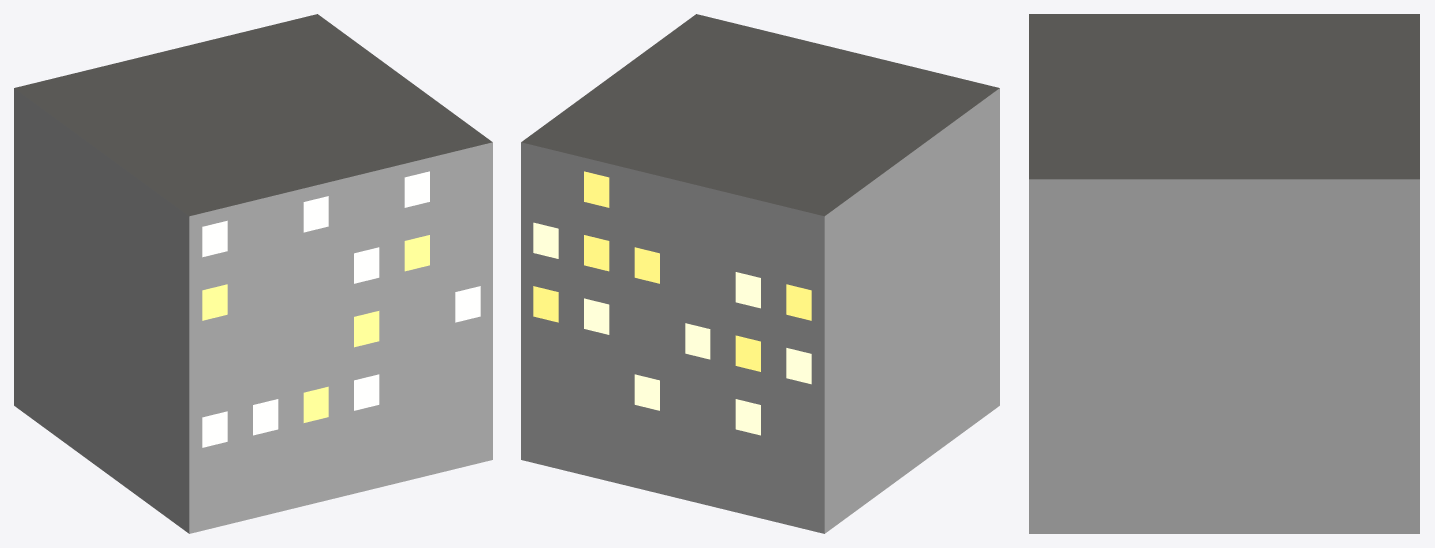
File: city-block-lit-5.glb
3 renders of one model, left to right at view 1: azimuth 30°, elevation 25°; view 2: azimuth 150°, elevation 25°; view 3: azimuth 270°, elevation 25°, orthographic. The views are drawn at different scales.
Parts seen in each view (by area): view 1: city_block, window warm, window amber; view 2: city_block, window warm, window amber; view 3: city_block.
Part boxes in pixels (x1=…): city_block: x1=14, y1=14, x2=492, y2=533; window warm: x1=202, y1=171, x2=480, y2=447; window amber: x1=202, y1=235, x2=429, y2=422; city_block: x1=521, y1=14, x2=999, y2=533; window warm: x1=533, y1=222, x2=811, y2=435; window amber: x1=533, y1=171, x2=811, y2=371; city_block: x1=1029, y1=14, x2=1419, y2=533.
Bounding box in the file's own units: 1 × 1 × 1.
